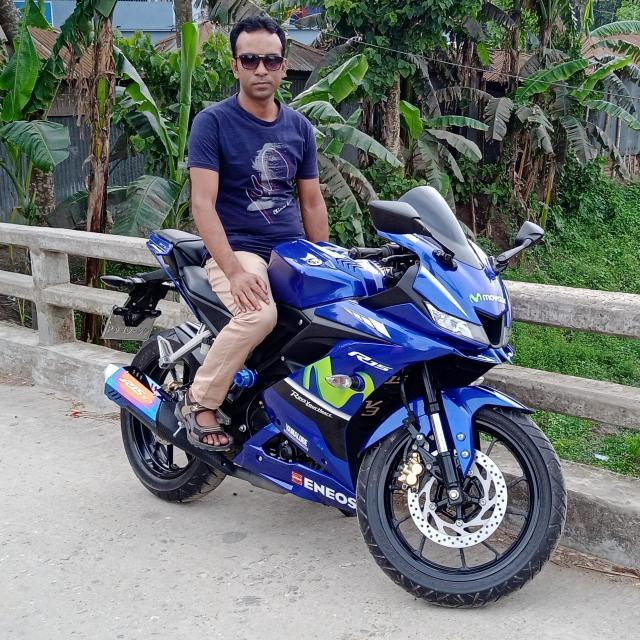No helmet: (218, 13, 312, 116)
